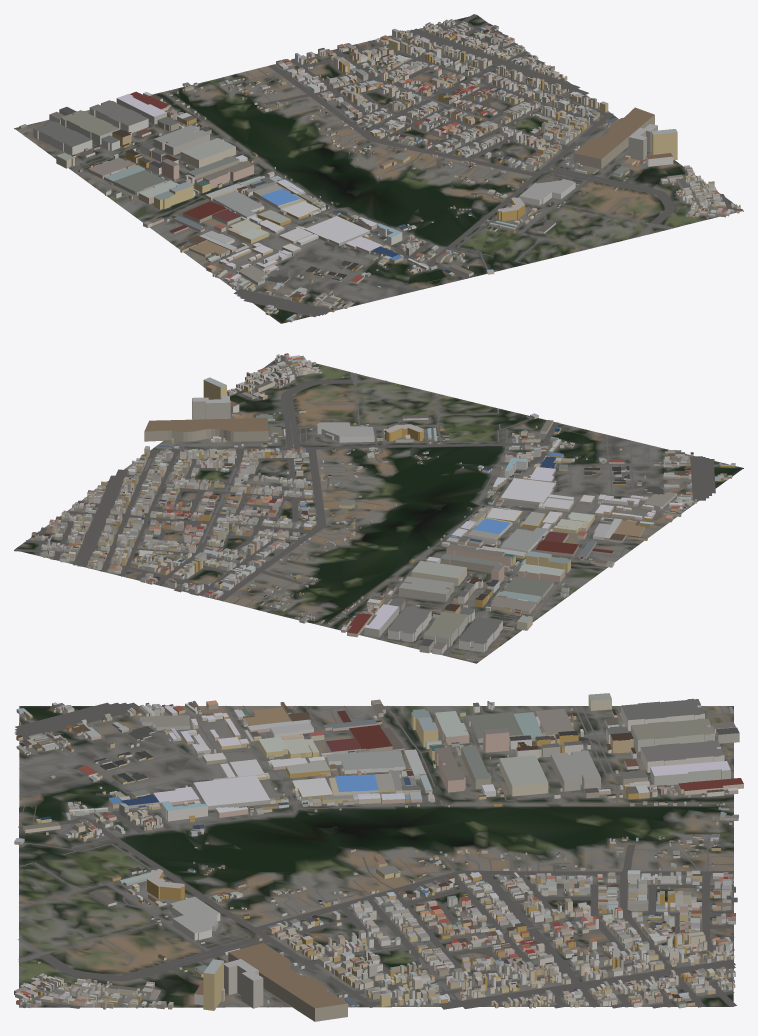
The picture shows the model from 3 angles, top to bottom: view 1: azimuth 30°, elevation 25°; view 2: azimuth 150°, elevation 25°; view 3: azimuth 270°, elevation 25°; orthographic projection. The views are drawn at different scales.
Parts seen in each view (by area): view 1: ground, buildings, roads; view 2: ground, buildings, roads; view 3: ground, buildings, roads.
Part boxes in pixels (x1,y1,x2,y2): ground: [14, 14, 743, 323]; buildings: [19, 19, 740, 322]; roads: [19, 14, 742, 316]; ground: [14, 355, 743, 663]; buildings: [31, 353, 735, 661]; roads: [14, 355, 715, 660]; ground: [19, 706, 733, 1007]; buildings: [14, 693, 743, 1021]; roads: [14, 702, 737, 1009].
Size of the model in its own units: 1480 by 83.67 by 1430.
